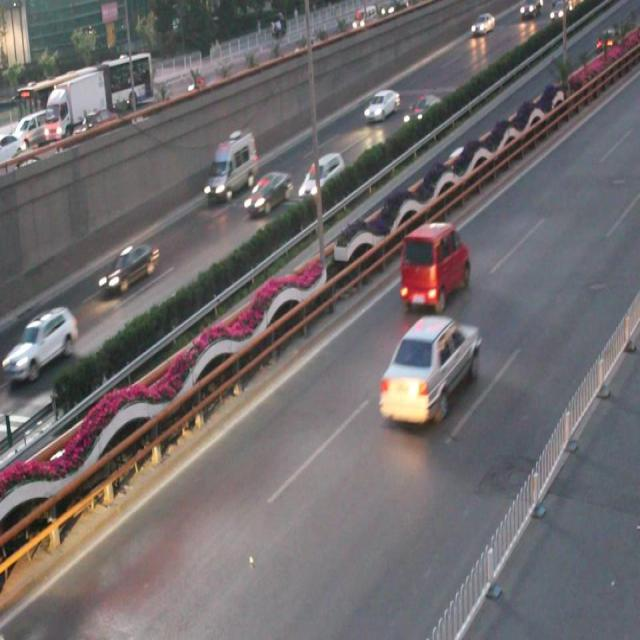car: (379, 311, 479, 425), (399, 222, 470, 314), (8, 303, 78, 377), (98, 240, 160, 298), (296, 151, 344, 199), (245, 170, 292, 214), (401, 91, 440, 126), (364, 88, 400, 122)
truck: (204, 126, 256, 203)
